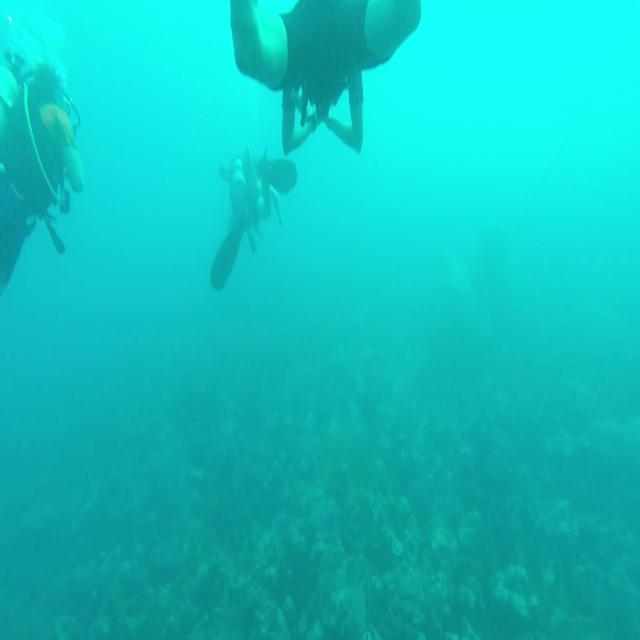human: (229, 0, 422, 156), (0, 43, 84, 296), (209, 144, 297, 292)
